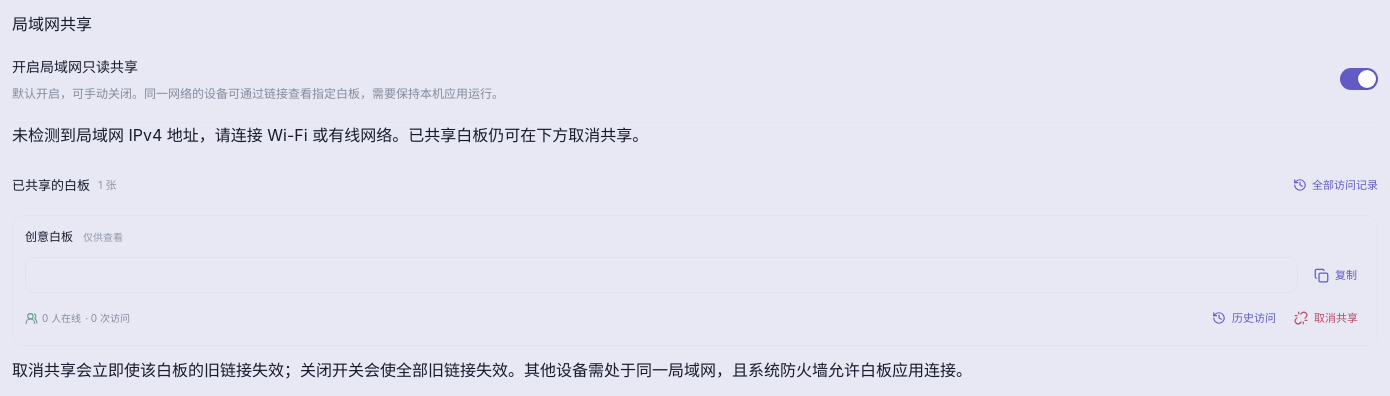
Test: allows cancellation without a LAN address while disabling unusable copy links
The width and height of the screenshot is (1390, 396).
Check: the list named "已共享白板列表" is shown, box top-left (12, 215), bottom-right (1378, 346)
Check: the button with aria-label "复制 创意白板 的共享链接" is disabled, box top-left (1306, 255), bottom-right (1365, 295)
Click the button with aria-label "取消共享 创意白板" at (1326, 318), box top-left (1287, 303), bottom-right (1365, 333)
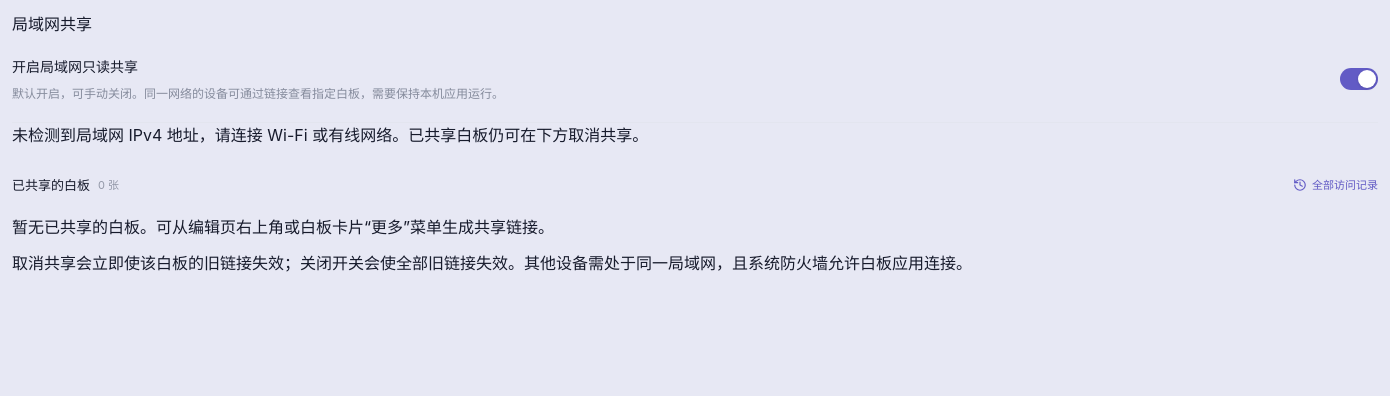
Check: the text "暂无已共享的白板。可从编辑页右上角或白板卡片“更多”菜单生成共享链接。" is shown, box top-left (12, 217), bottom-right (554, 237)
